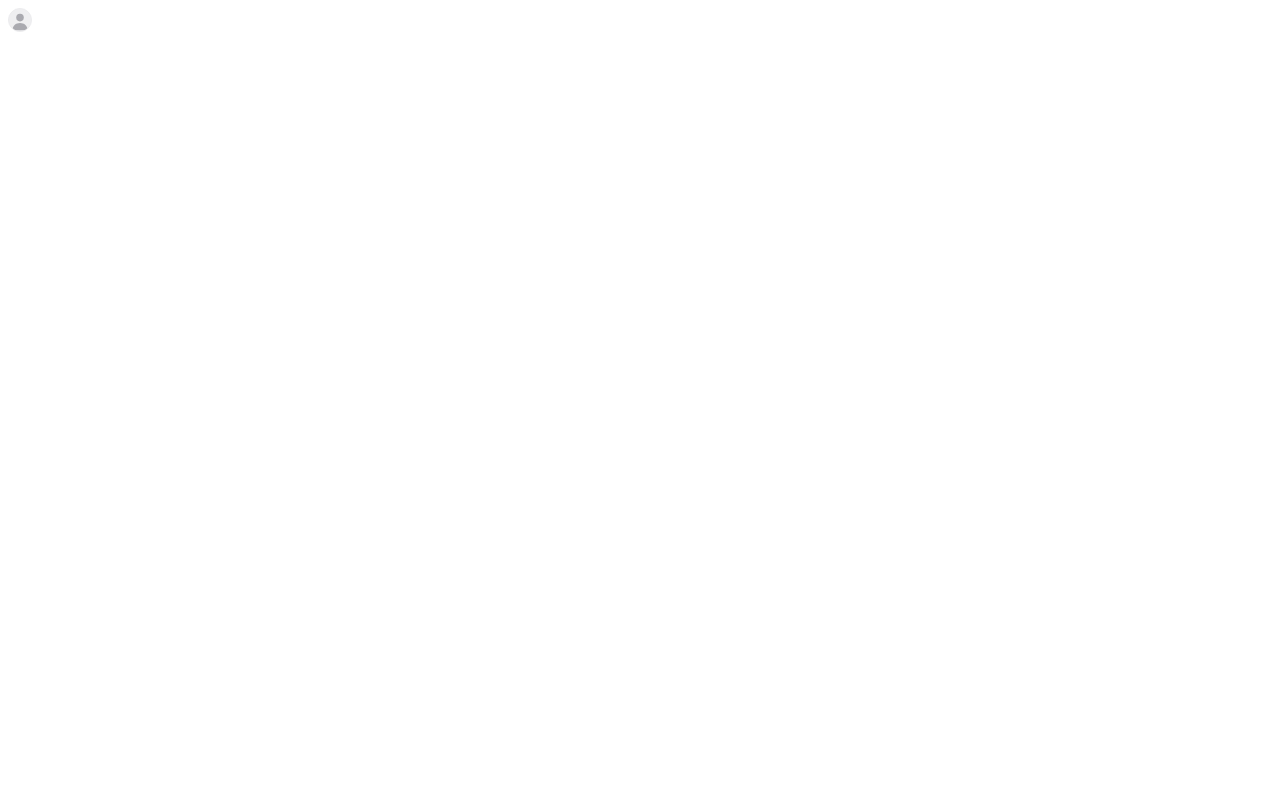
Scenario: Appearance submenu › drills into Appearance in UserMenu, switches themes, supports keyboard back, and resets on reopen
The image size is (1280, 800).
Later steps or results of the test are not shown.
Click the button named "Account menu for Alice Banda" at (20, 20), box [0,0,40,40]
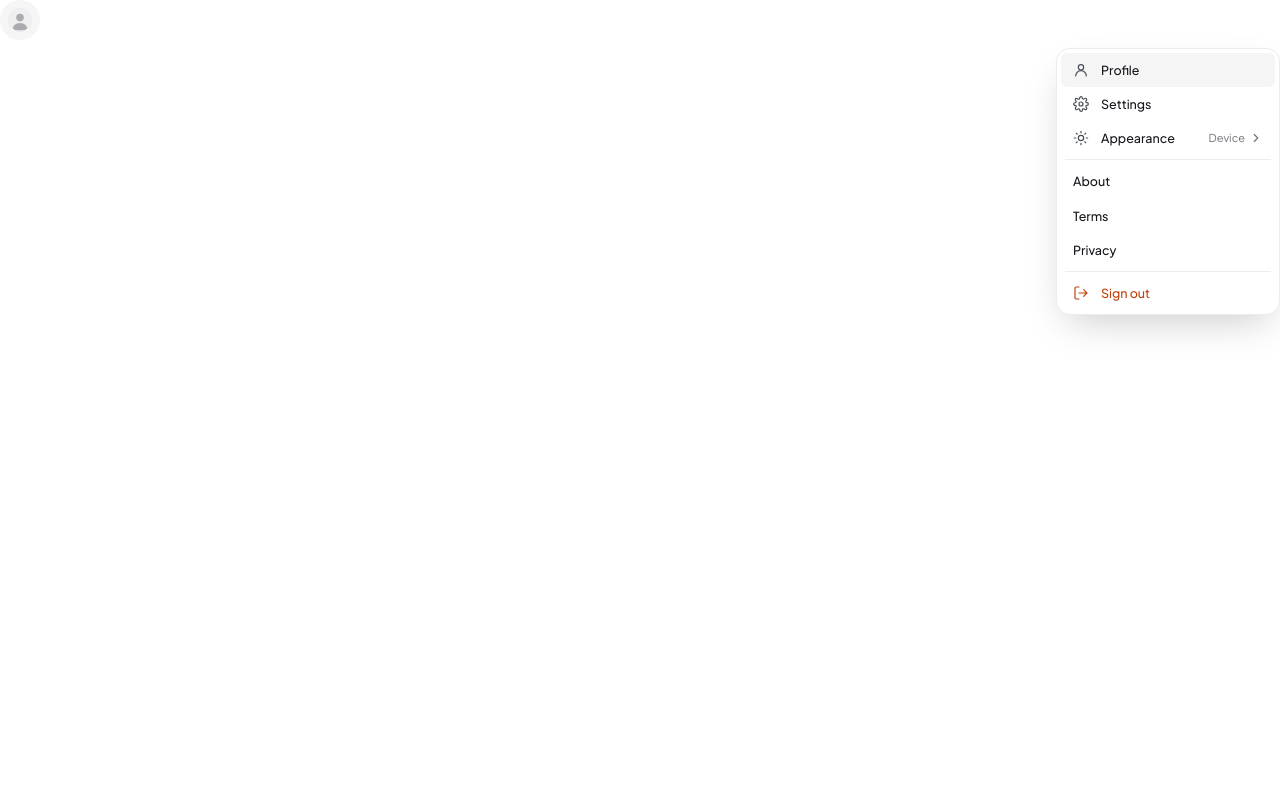
Now the menu item "Appearance Device" is shown
Note: Open submenu with ArrowRight
Press ArrowRight in the menu item "Appearance Device", box [1061,121,1275,155]
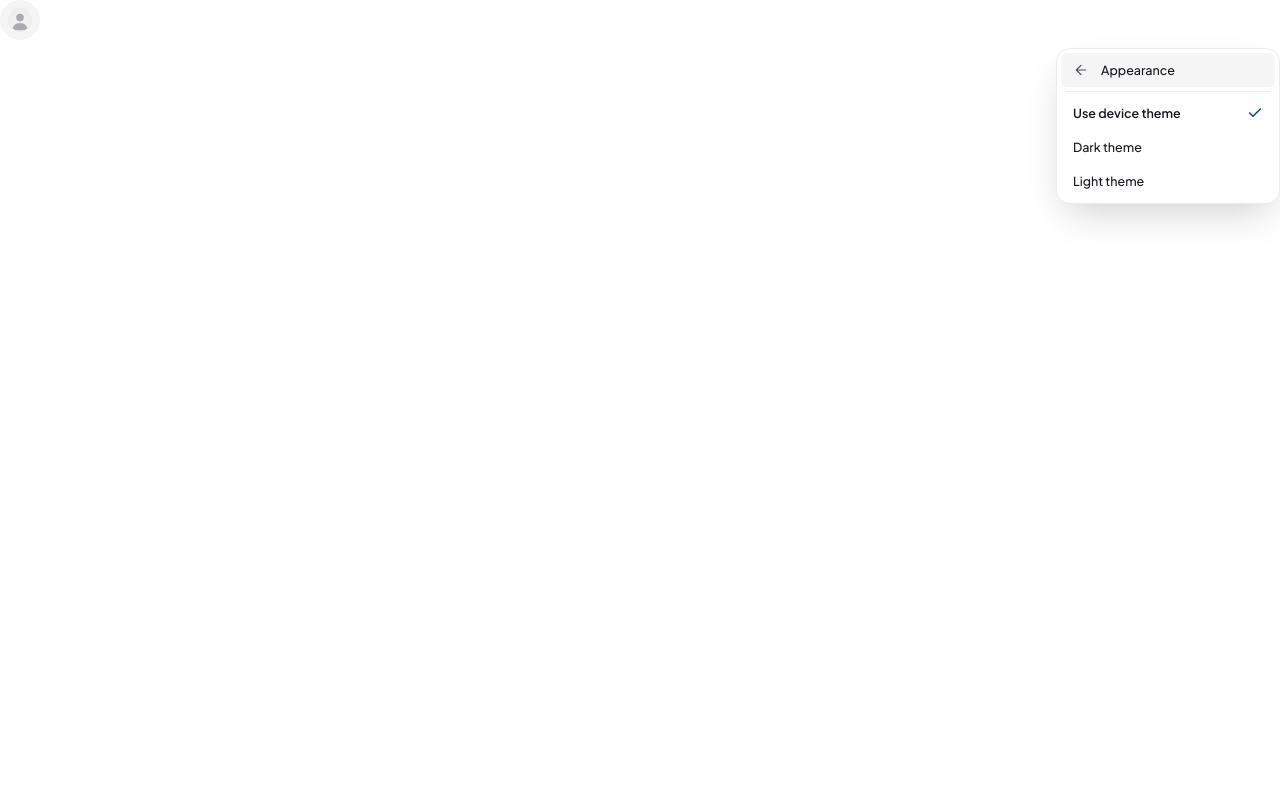
Note: ArrowLeft returns to the root menu
Press ArrowLeft in the menu item "Dark theme", box [1061,130,1275,164]
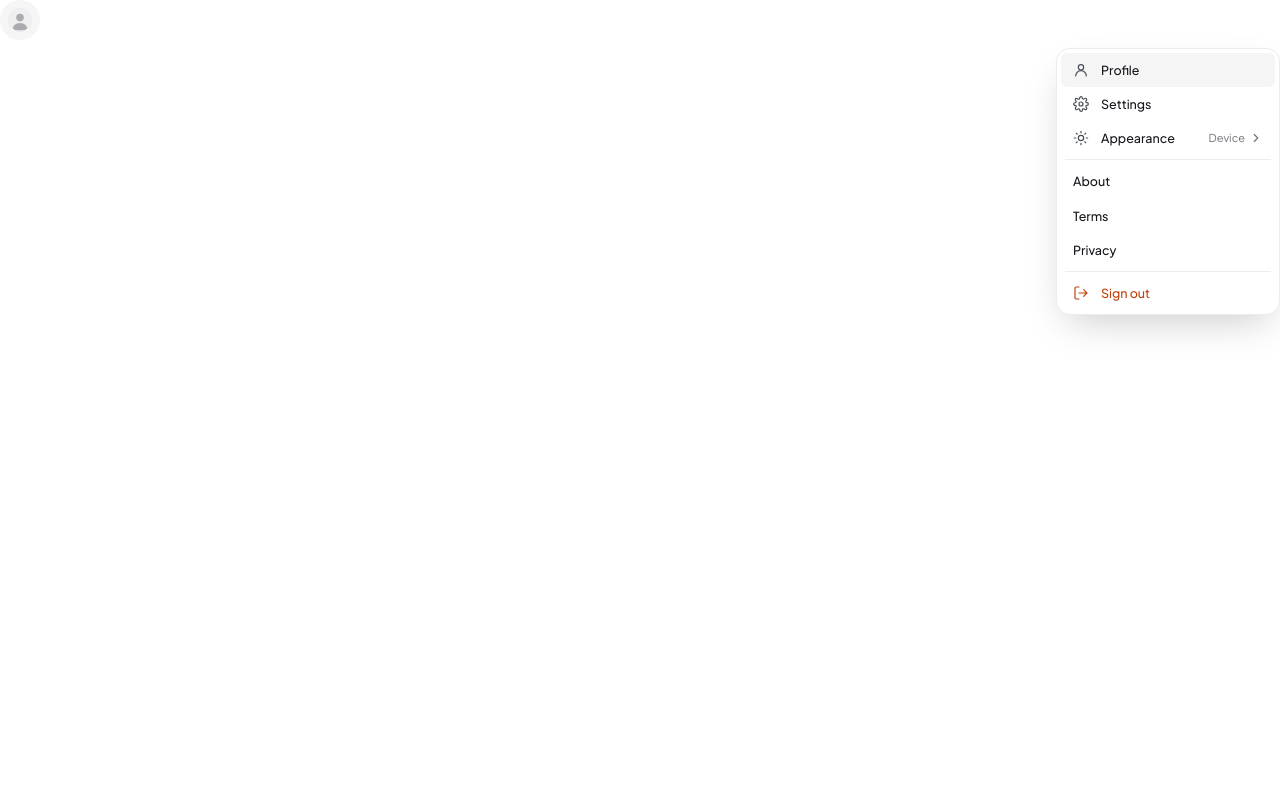
Now the menu item "Profile" is shown, box [1061,53,1275,87]
Note: Click Appearance again and pick Dark theme
Click the menu item "Appearance Device" at (1168, 138), box [1061,121,1275,155]
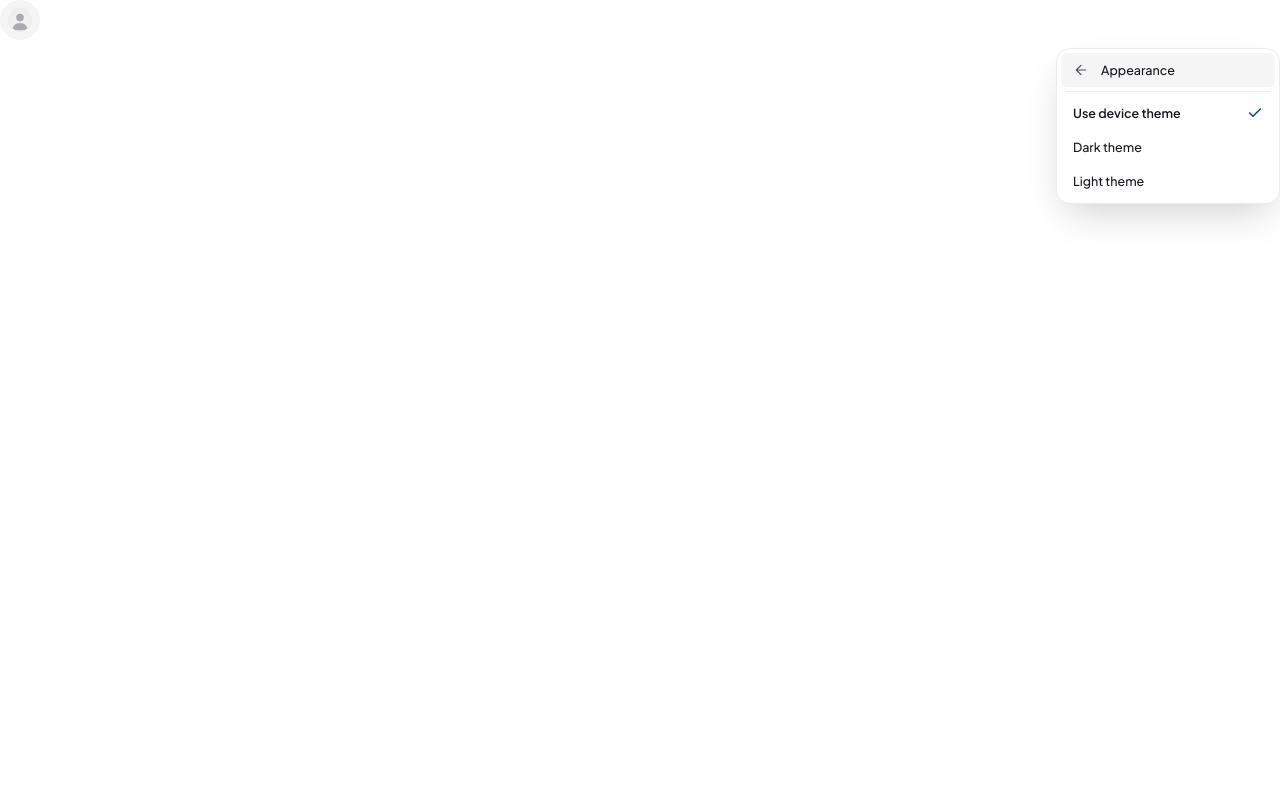
Click the menu item "Dark theme" at (1168, 147), box [1061,130,1275,164]
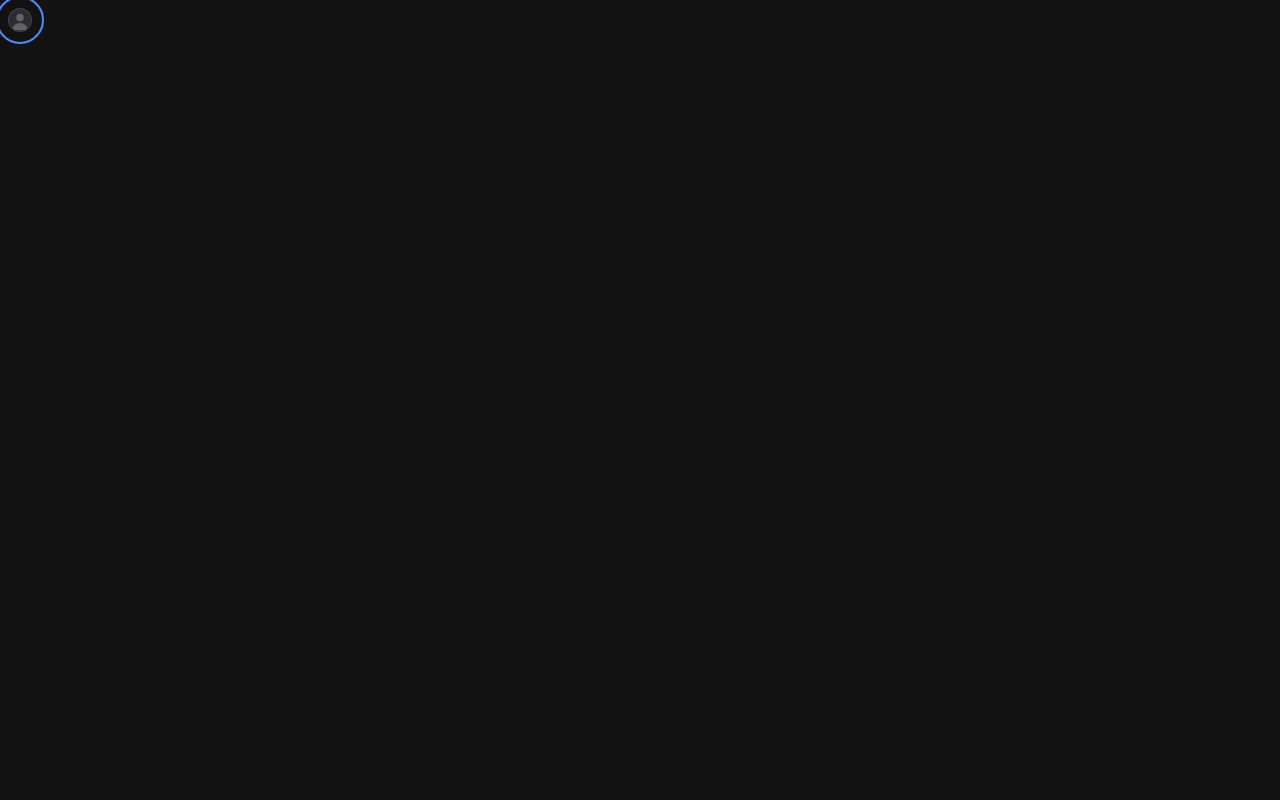
Note: Reopening starts at the root menu with the updated label
Click the button named "Account menu for Alice Banda" at (20, 20), box [0,0,40,40]
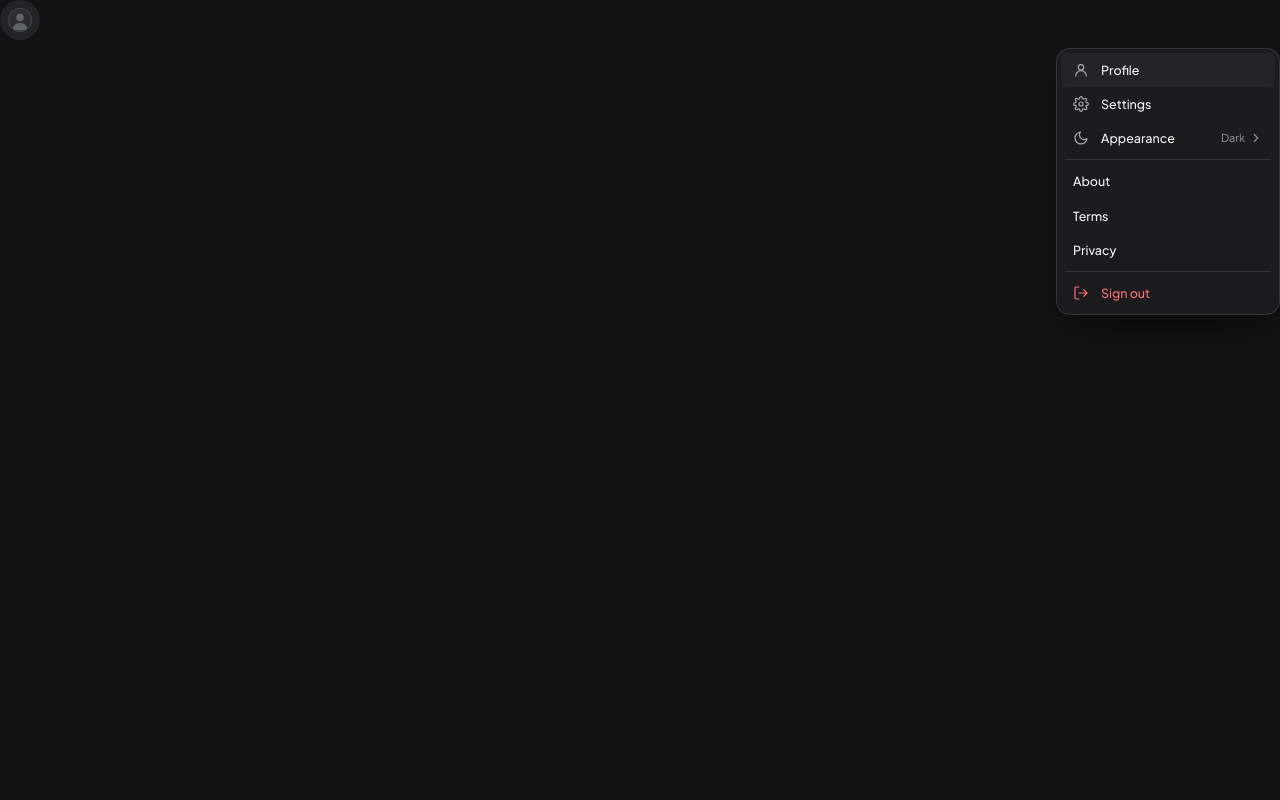
Now the menu item "Profile" is shown, box [1061,53,1275,87]
Now the menu item "Appearance Dark" is shown, box [1061,121,1275,155]
